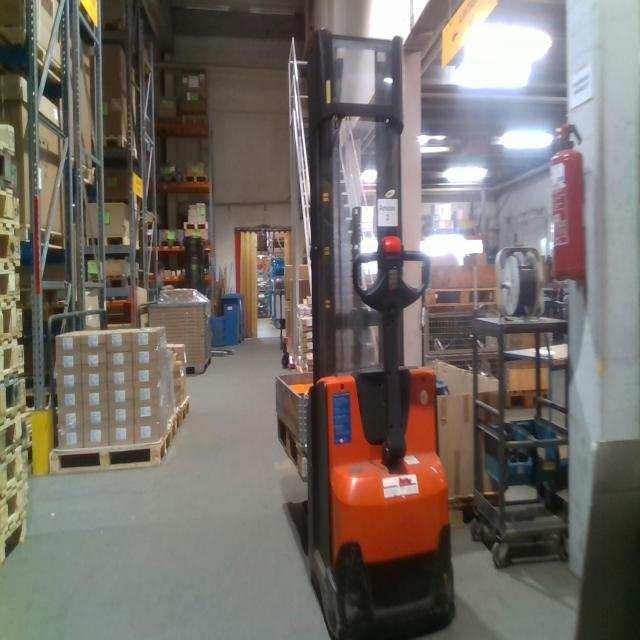pallet: (50, 413, 177, 475), (17, 223, 71, 256), (3, 407, 29, 456), (1, 297, 26, 340), (85, 231, 141, 250), (5, 480, 28, 526), (39, 48, 64, 90), (3, 449, 28, 490), (177, 352, 212, 379), (2, 517, 28, 553), (4, 340, 26, 377), (2, 222, 22, 262), (106, 135, 139, 158), (4, 377, 29, 407), (1, 262, 22, 297), (2, 118, 20, 153), (0, 158, 21, 188), (2, 191, 22, 222), (174, 395, 191, 430), (155, 173, 184, 190), (183, 216, 214, 231), (183, 170, 210, 187), (156, 238, 183, 255)
pallet_truck: (301, 19, 459, 639), (274, 277, 298, 372)
stillage: (418, 301, 509, 398), (148, 297, 215, 378)
